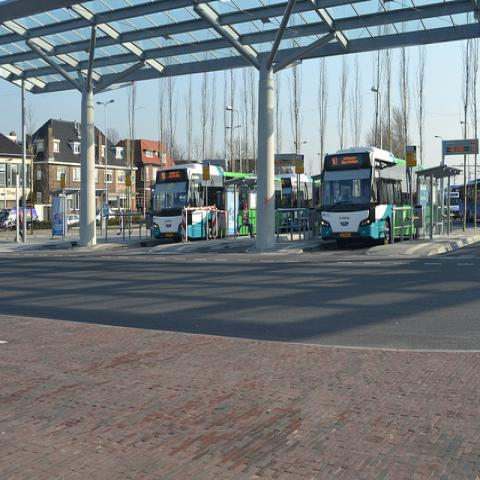bus: (321, 146, 432, 249), (152, 162, 254, 238), (275, 171, 314, 209), (458, 179, 480, 221)
car: (0, 209, 17, 222)
